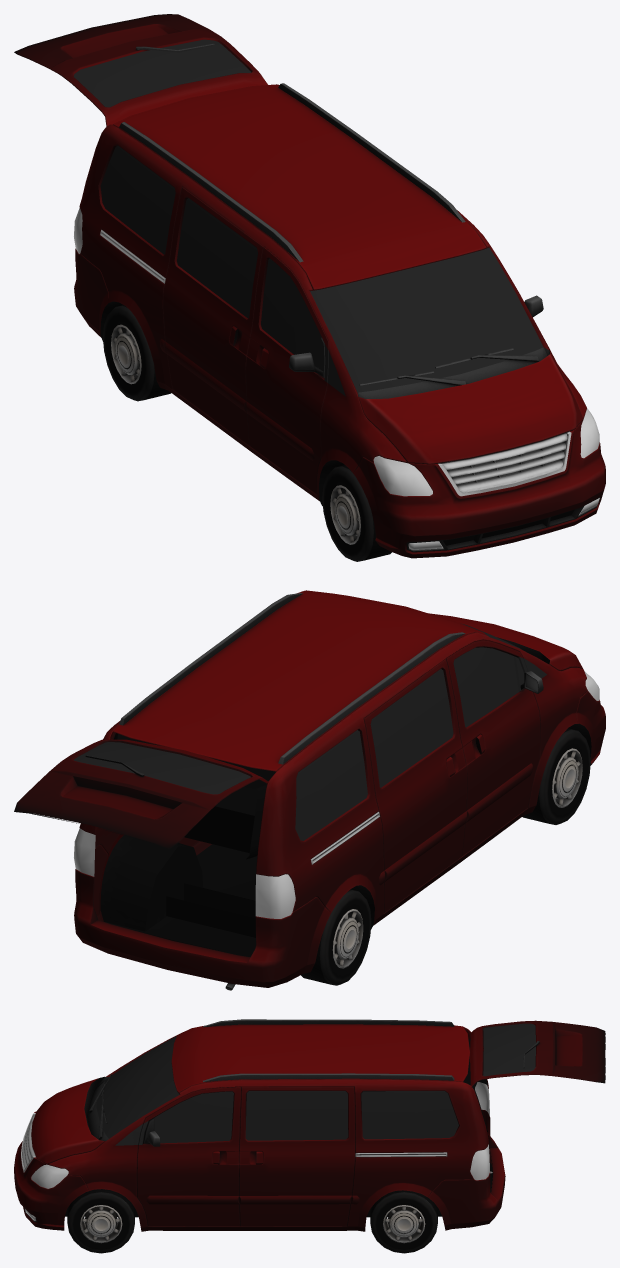
The model's file is Minivan.fbx.
The picture shows the model from 3 angles, top to bottom: view 1: azimuth 30°, elevation 25°; view 2: azimuth 150°, elevation 25°; view 3: azimuth 270°, elevation 25°; orthographic projection. The views are drawn at different scales.
Parts seen in each view (by area): view 1: minivan body, PuertaTrasera, Wheel_D002, Wheel_D003; view 2: minivan body, PuertaTrasera, Wheel_D003, Wheel_D002; view 3: minivan body, PuertaTrasera, Wheel_D, Wheel_D001.
Boxes of the visible parts, x1=… form: minivan body: x1=74, y1=83, x2=605, y2=558; PuertaTrasera: x1=14, y1=14, x2=267, y2=126; Wheel_D002: x1=322, y1=465, x2=391, y2=561; Wheel_D003: x1=103, y1=305, x2=170, y2=401; minivan body: x1=74, y1=590, x2=605, y2=990; PuertaTrasera: x1=14, y1=739, x2=269, y2=849; Wheel_D003: x1=301, y1=889, x2=371, y2=985; Wheel_D002: x1=522, y1=728, x2=590, y2=824; minivan body: x1=14, y1=1019, x2=505, y2=1231; PuertaTrasera: x1=470, y1=1020, x2=605, y2=1087; Wheel_D: x1=67, y1=1189, x2=134, y2=1253; Wheel_D001: x1=370, y1=1190, x2=437, y2=1253.
Size of the model in its own units: 82.77 by 80.3 by 246.
